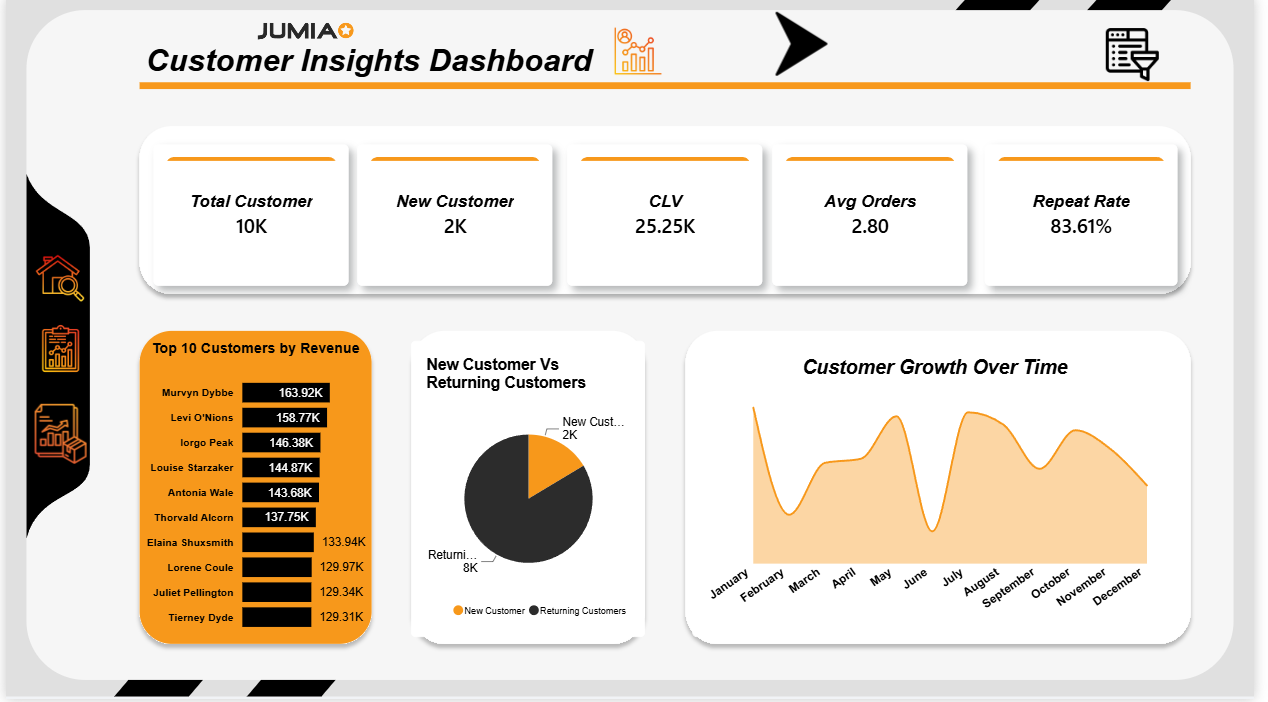

What the dashboard file says about the page in this screenshot:
{"tool":"powerbi","page":{"name":"Customer","canvas":[1280,720],"ordinal":2},"visuals":[{"type":"image","box":[1087.4,16.1,135.3,84.4],"z":0},{"type":"image","box":[193.5,0,223.7,68.6],"z":1000},{"type":"image","box":[560,16,176,80],"z":2000},{"type":"textbox","box":[144,48,480,48],"z":3000},{"type":"image","box":[0,400,112,96],"z":4000},{"type":"image","box":[16,224,80,128],"z":5000},{"type":"image","box":[0,320,112,80],"z":6000},{"type":"cardVisual","fields":{"Data":["customers.Total Customer"]},"box":[150.8,150.8,200.3,144.8],"z":7000},{"type":"cardVisual","fields":{"Data":["customers.New Customer"]},"box":[360.7,150.8,200.3,144.8],"z":8000},{"type":"cardVisual","fields":{"Data":["customers.CLV"]},"box":[575.5,150.8,200.3,144.8],"z":9000},{"type":"cardVisual","fields":{"Data":["address.Avg Orders"]},"box":[785.4,150.8,200.3,144.8],"z":10000},{"type":"cardVisual","title":"Average Order Value","fields":{"Data":["customers.Repeat Rate"]},"box":[1003.8,150.8,197.9,144.8],"z":11000},{"type":"pieChart","title":"New Customer Vs Returning Customers","fields":{"Y":["customers.New Customer","customers.Returning Customers"]},"box":[416,352,240,304],"z":12000},{"type":"barChart","title":"Top 10 Customers by Revenue","fields":{"Category":["customers.Full name"],"Y":["Sum(orders.TotalAmount)"]},"box":[128,336,256,336],"z":13000},{"type":"lineChart","title":"Customer Growth Over Time","fields":{"Y":["customers.New Customers by Month"],"Category":["calendar.DATE.Variation.Date Hierarchy.Month"]},"box":[704,352,496,304],"z":14000},{"type":"image","box":[736,0,160,96],"z":24000}]}

Visuals, with their boxes in screenshot pixels (x1, y1, x2, y2), scaled from the page's 1280x720 canvas onto the 1268x702 screenshot:
image: BBox(1077, 16, 1211, 98)
image: BBox(192, 0, 413, 67)
image: BBox(555, 16, 729, 94)
textbox: BBox(143, 47, 618, 94)
image: BBox(0, 390, 111, 484)
image: BBox(16, 218, 95, 343)
image: BBox(0, 312, 111, 390)
cardVisual - customers.Total Customer: BBox(149, 147, 348, 288)
cardVisual - customers.New Customer: BBox(357, 147, 556, 288)
cardVisual - customers.CLV: BBox(570, 147, 769, 288)
cardVisual - address.Avg Orders: BBox(778, 147, 976, 288)
"Average Order Value" cardVisual: BBox(994, 147, 1190, 288)
"New Customer Vs Returning Customers" pieChart: BBox(412, 343, 650, 640)
"Top 10 Customers by Revenue" barChart: BBox(127, 328, 380, 655)
"Customer Growth Over Time" lineChart: BBox(697, 343, 1189, 640)
image: BBox(729, 0, 888, 94)
